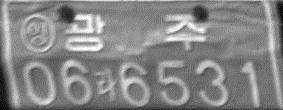0: (21, 60, 55, 105)
1: (237, 60, 267, 110)
3: (195, 59, 229, 107)
5: (156, 59, 189, 107)
6: (60, 58, 92, 106), (118, 61, 151, 106)
광주_D: (64, 11, 208, 53)
라: (93, 67, 117, 101)
영: (19, 13, 56, 54)
